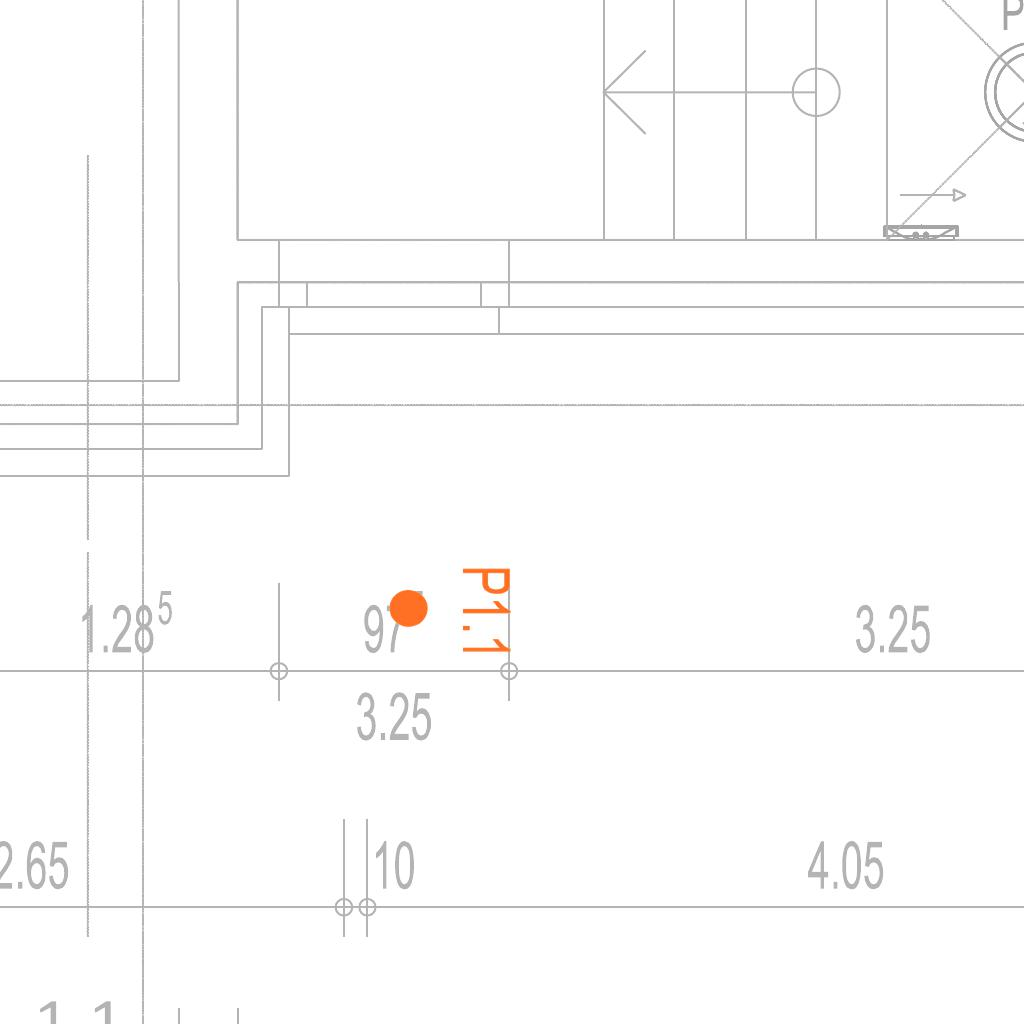Downlight_LED_Einbauleuchten_Flur: (386, 565, 514, 658)
